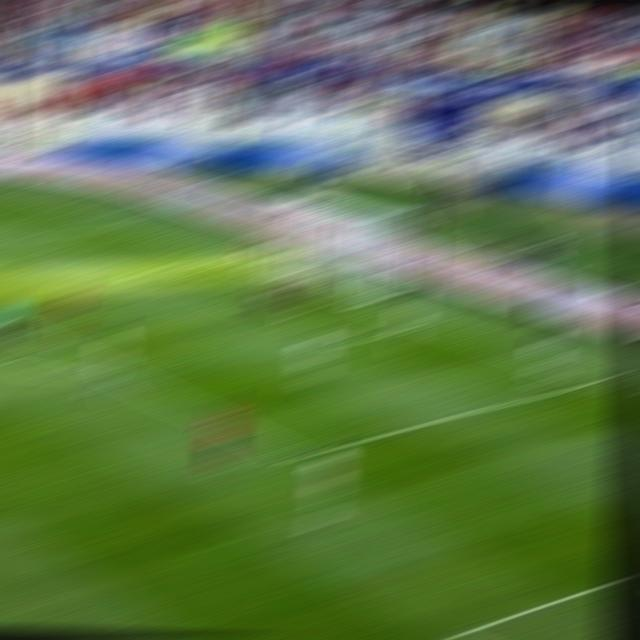bigarea_bottom_inner: (278, 444, 315, 466)
bigarea_bottom_outter: (582, 369, 620, 387)
bigarea_top_outter: (106, 218, 140, 230)
corner: (0, 182, 37, 194)
smallarea_bottom_inner: (329, 332, 363, 350)
smallarea_bottom_outter: (411, 315, 448, 331)
smallarea_top_inner: (128, 262, 165, 276)
smallarea_top_outter: (204, 250, 237, 264)
